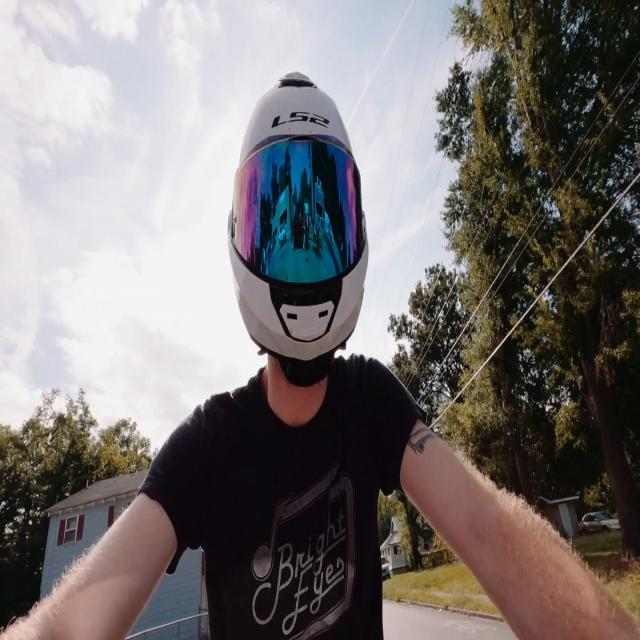Helmet_Wearer: (217, 71, 373, 414)
Person: (65, 65, 552, 640)
